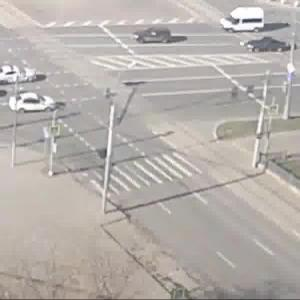car: (219, 9, 273, 33), (241, 34, 300, 55), (15, 91, 56, 116), (134, 25, 176, 48), (1, 66, 37, 85)
